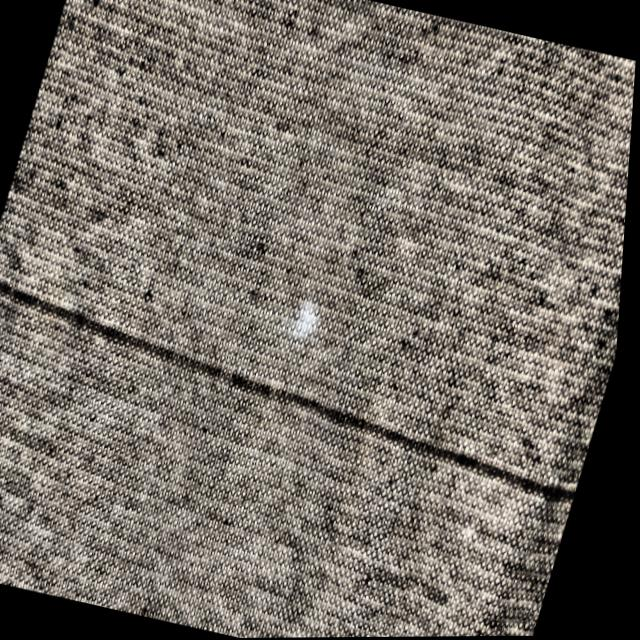Hole: (287, 291, 336, 346)
